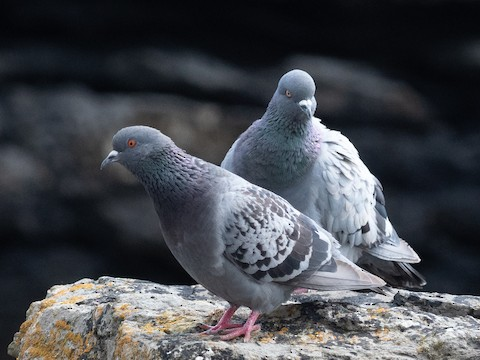pigeon: (98, 121, 394, 348), (205, 65, 433, 293)
